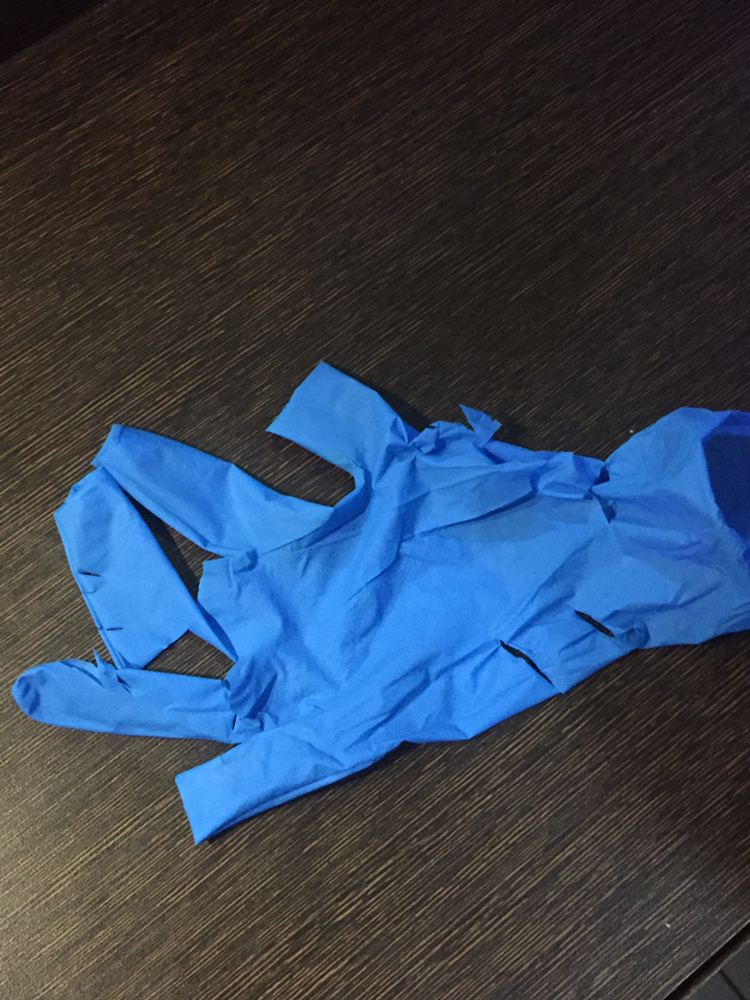defected: (15, 342, 746, 860)
